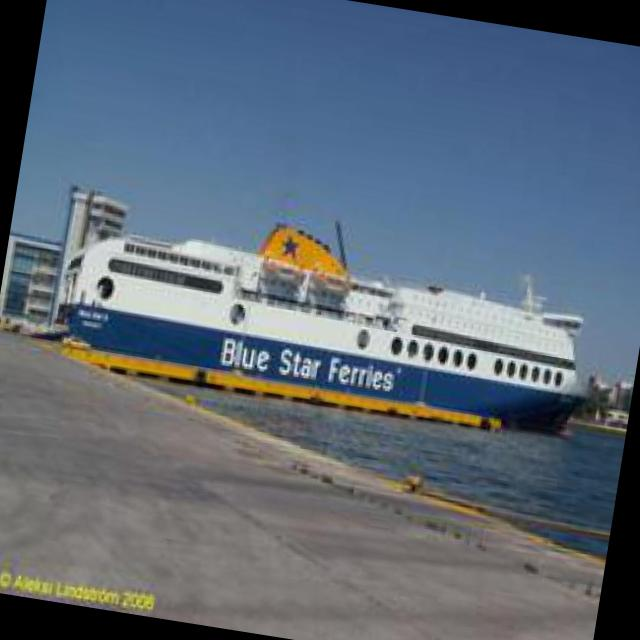boat: (56, 230, 594, 444)
